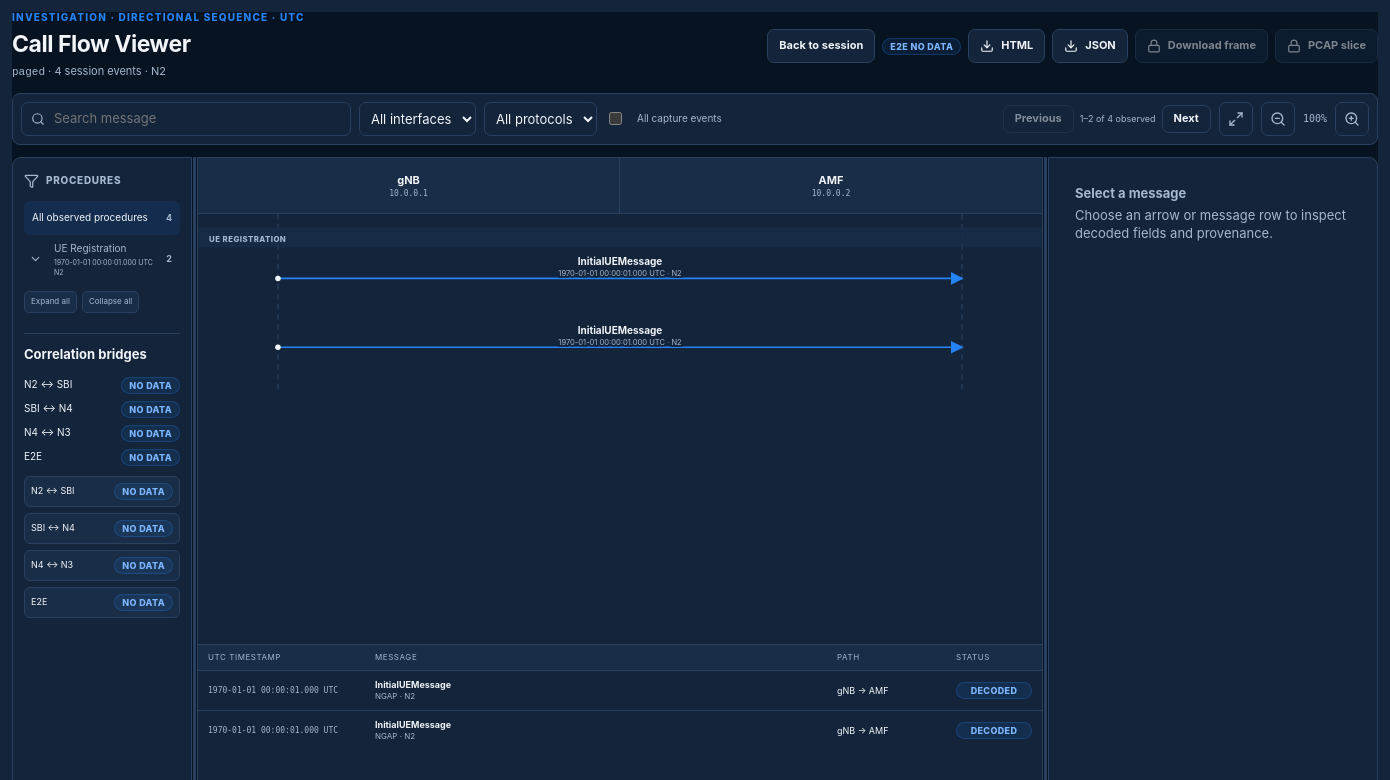
Test case: OIRAN 2.8.0 analyzer pillar 7 › callflow pagination keeps canonical (capture_id, seq, event_id) order › walks the cursor in canonical order without loss or duplicate
The width and height of the screenshot is (1390, 780).
expect the text "1–2 of 4 observed" is shown: met, box [1080,112,1156,125]
Click the button "Next".
click(1186, 119)  # box [1162,105,1211,133]
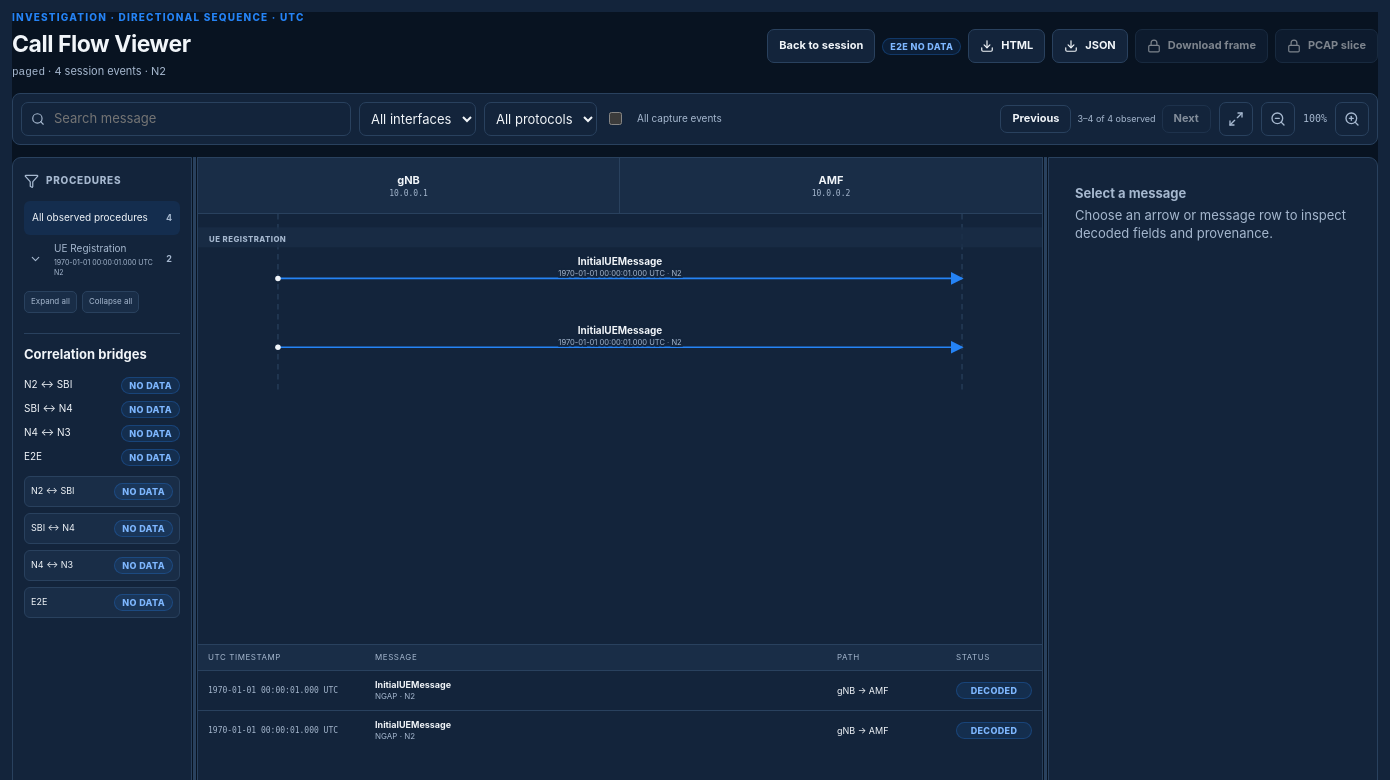
expect the text "3–4 of 4 observed" is shown: met, box [1078,112,1156,125]
// Previous returns to page 1, still ordered by (capture_id, packet, event_id).
Click the button "Previous".
click(1036, 119)  # box [1000,105,1072,133]
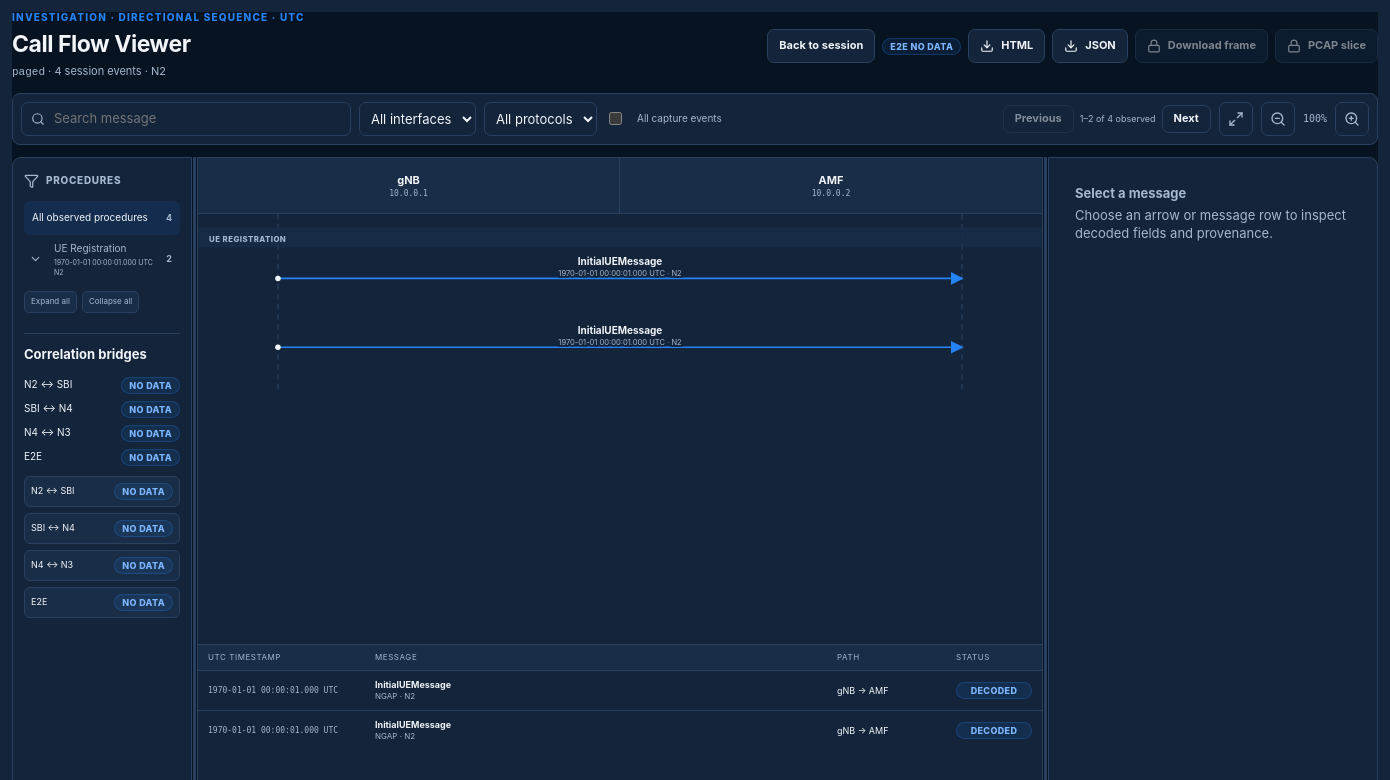
expect the text "1–2 of 4 observed" is shown: met, box [1080,112,1156,125]
